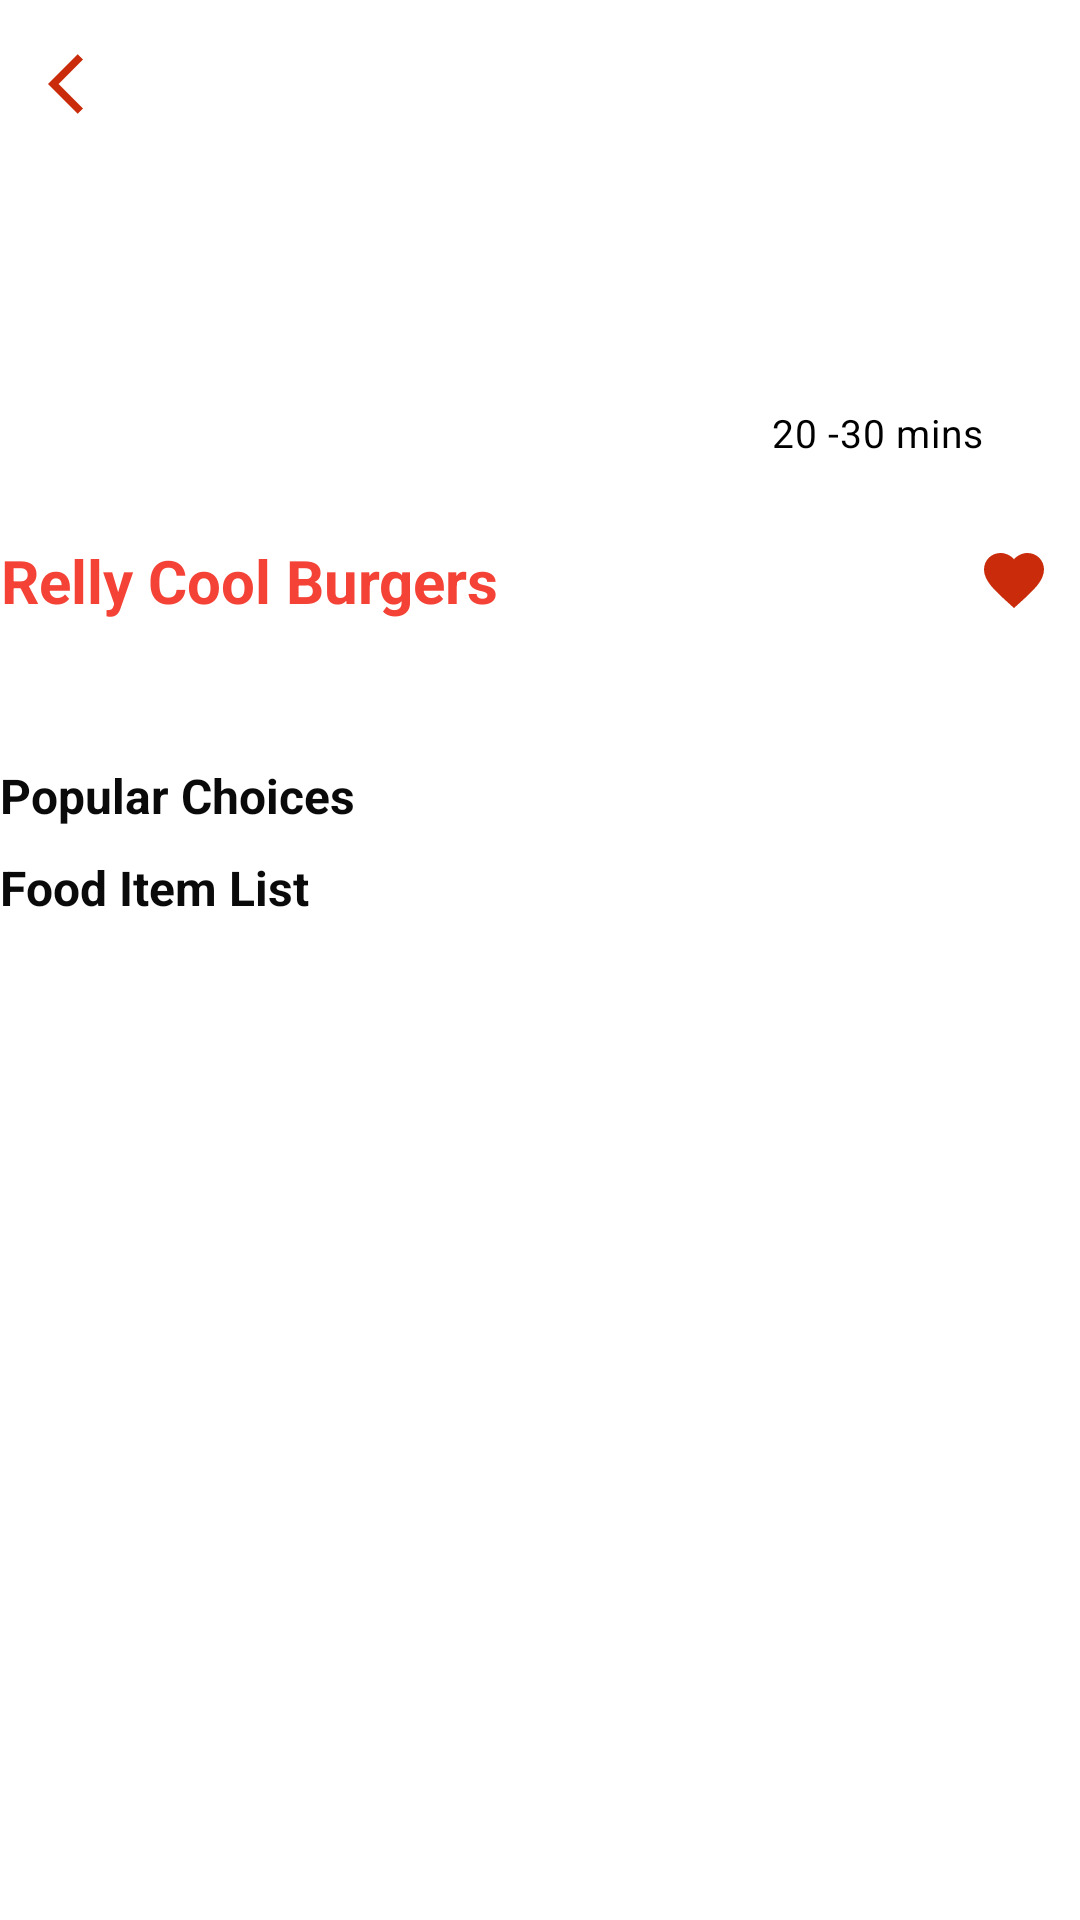

Screen size 1080×1920. Icon name, then its box in pixels as (x1, y1, x2, y2):
favorite: (984, 553, 1044, 608)
